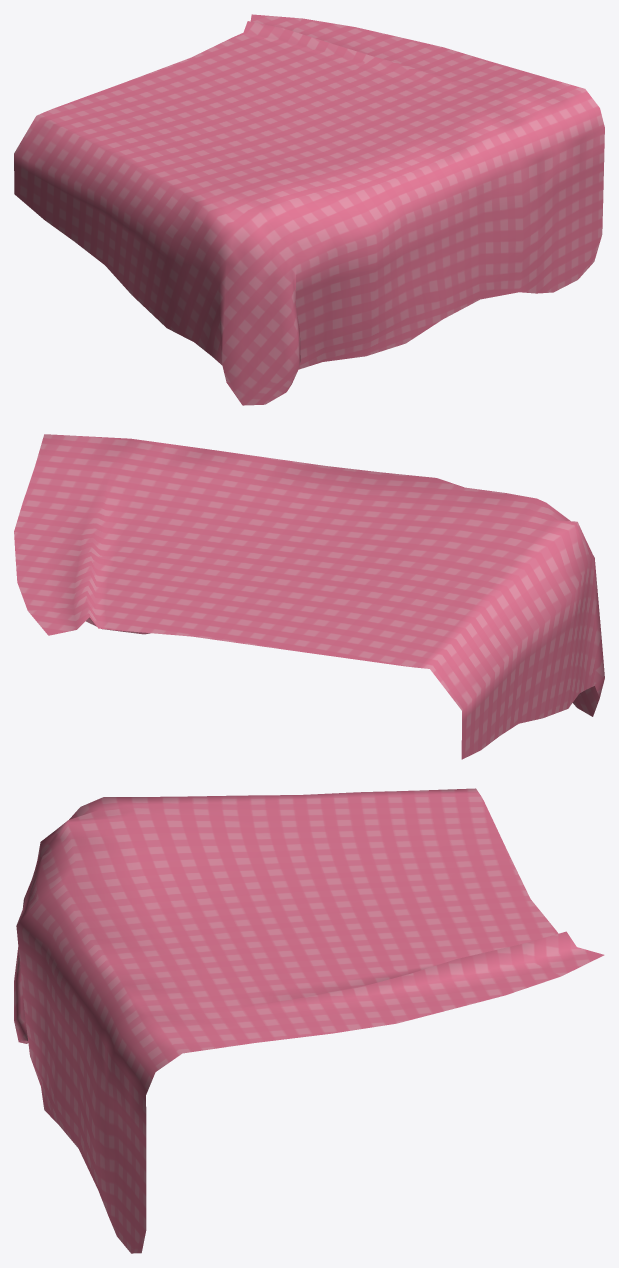
The model's file is Picnic_Mattress_low_2.fbx.
3 views of the same model, one above another, from view 1: azimuth 30°, elevation 25°; view 2: azimuth 150°, elevation 25°; view 3: azimuth 270°, elevation 25° (orthographic). The views are drawn at different scales.
Parts seen in each view (by area): view 1: Picnic_Mattress1; view 2: Picnic_Mattress1; view 3: Picnic_Mattress1.
Part boxes in pixels (bbox=[...]): Picnic_Mattress1: bbox=[14, 14, 604, 405]; Picnic_Mattress1: bbox=[14, 434, 604, 759]; Picnic_Mattress1: bbox=[14, 788, 604, 1253].
Size of the model in its own units: 1134 by 426 by 977.
